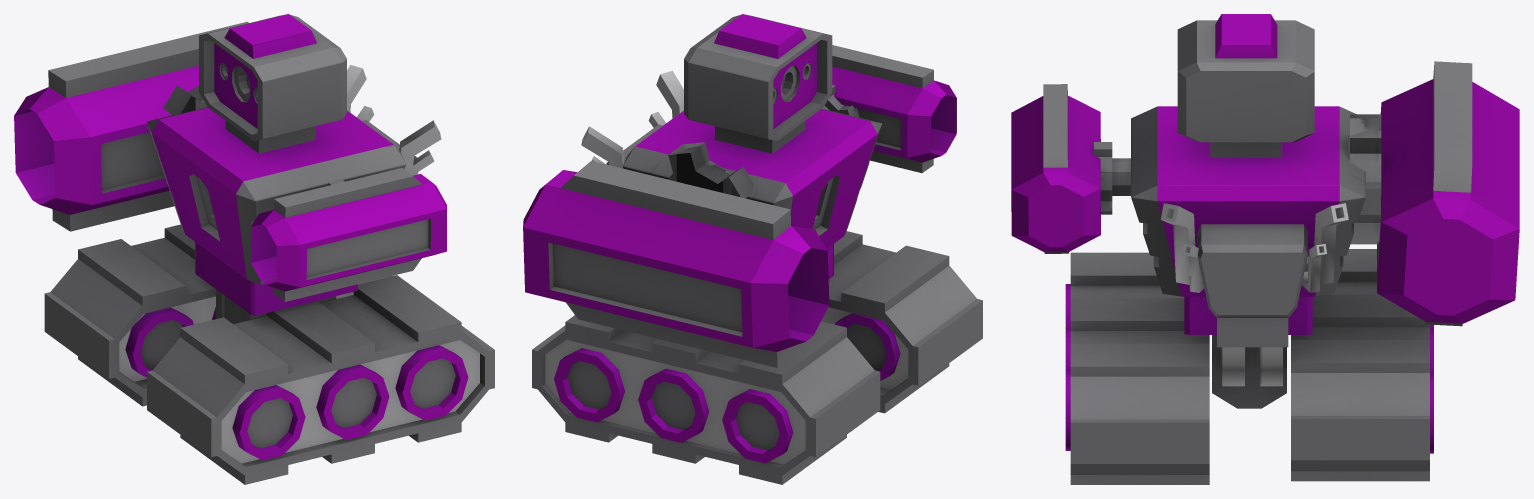
File: Enemy2_Die2.obj
3 renders of one model, left to right at view 1: azimuth 30°, elevation 25°; view 2: azimuth 150°, elevation 25°; view 3: azimuth 270°, elevation 25°, orthographic. The views are drawn at different scales.
Parts seen in each view (by area): view 1: Object006, Object011, Object013, Object014, Object012, Object010, Object009; view 2: Object006, Object011, Object012, Object013, Object014, Object009, Object010; view 3: Object006, Object011, Object013, Object012, Object010, Object014, Object009, Object008.
Boxes of the visible parts, x1=… form: Object006: x1=44, y1=224, x2=494, y2=484; Object011: x1=14, y1=21, x2=248, y2=231; Object013: x1=147, y1=107, x2=405, y2=324; Object014: x1=250, y1=167, x2=446, y2=301; Object012: x1=199, y1=14, x2=346, y2=153; Object010: x1=336, y1=65, x2=441, y2=298; Object009: x1=163, y1=85, x2=207, y2=115; Object006: x1=532, y1=231, x2=982, y2=484; Object011: x1=523, y1=161, x2=829, y2=367; Object012: x1=684, y1=14, x2=832, y2=153; Object013: x1=622, y1=108, x2=882, y2=279; Object014: x1=832, y1=45, x2=956, y2=172; Object009: x1=668, y1=142, x2=753, y2=198; Object010: x1=581, y1=70, x2=683, y2=168; Object006: x1=1065, y1=249, x2=1433, y2=484; Object011: x1=1377, y1=61, x2=1519, y2=326; Object013: x1=1131, y1=106, x2=1365, y2=408; Object012: x1=1177, y1=14, x2=1314, y2=157; Object010: x1=1160, y1=203, x2=1348, y2=386; Object014: x1=1011, y1=84, x2=1100, y2=253; Object009: x1=1350, y1=114, x2=1381, y2=244; Object008: x1=1094, y1=142, x2=1130, y2=214.
Bounding box in the file's own units: 87.45 × 108 × 126.
